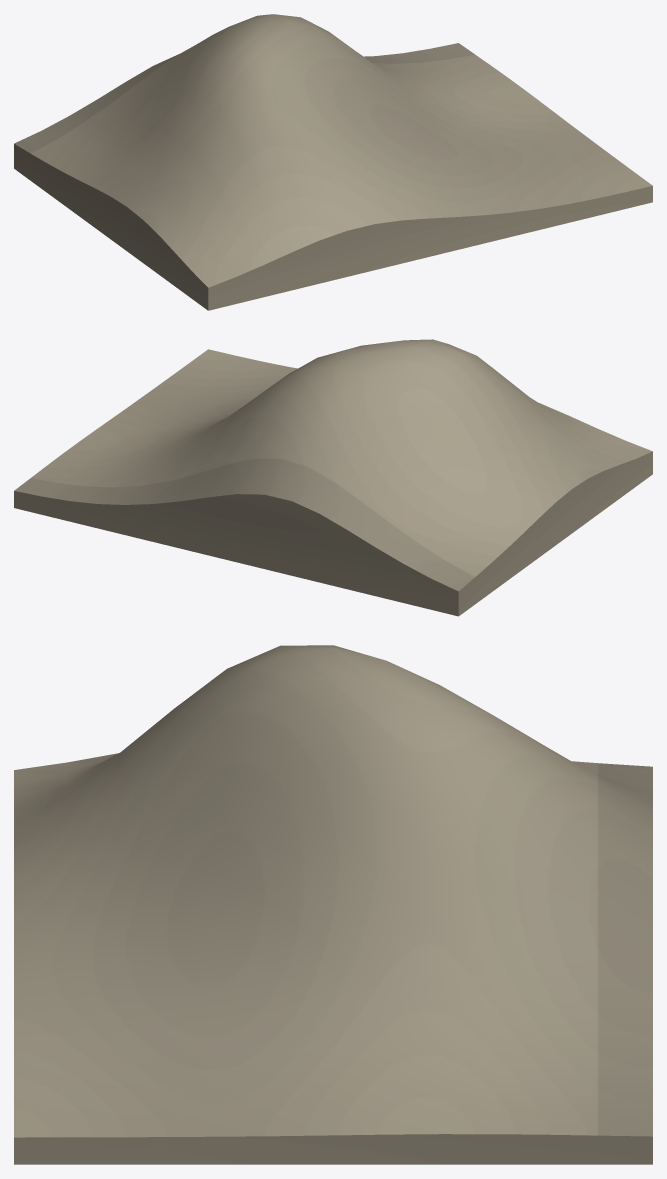
3 renders of one model, top to bottom at view 1: azimuth 30°, elevation 25°; view 2: azimuth 150°, elevation 25°; view 3: azimuth 270°, elevation 25°, orthographic. The views are drawn at different scales.
Parts seen in each view (by area): view 1: podgorica; view 2: podgorica; view 3: podgorica.
Boxes of the visible parts, x1,y1,x2,y2 form: podgorica: [14, 14, 652, 310]; podgorica: [14, 339, 652, 616]; podgorica: [14, 645, 652, 1164].
Bounding box in the file's own units: 7.07 × 2.5 × 5.35.
1 material, 1 textured.
